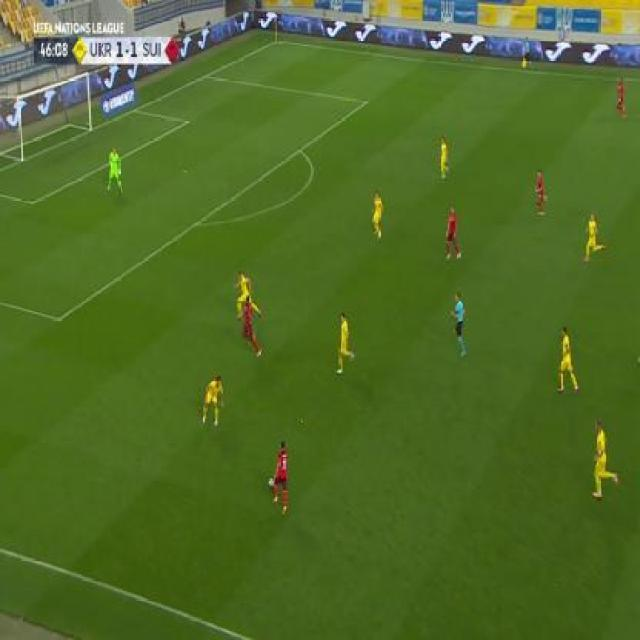ball: (268, 475, 274, 488)
player: (589, 419, 620, 499), (555, 326, 580, 397), (237, 296, 263, 358), (270, 438, 290, 515), (233, 270, 262, 319), (334, 311, 356, 374), (200, 375, 225, 428), (449, 291, 468, 359), (582, 212, 607, 263), (444, 205, 461, 262), (105, 146, 125, 194), (369, 189, 385, 240), (534, 168, 548, 216), (437, 135, 451, 180), (614, 76, 628, 119), (521, 35, 532, 72)
